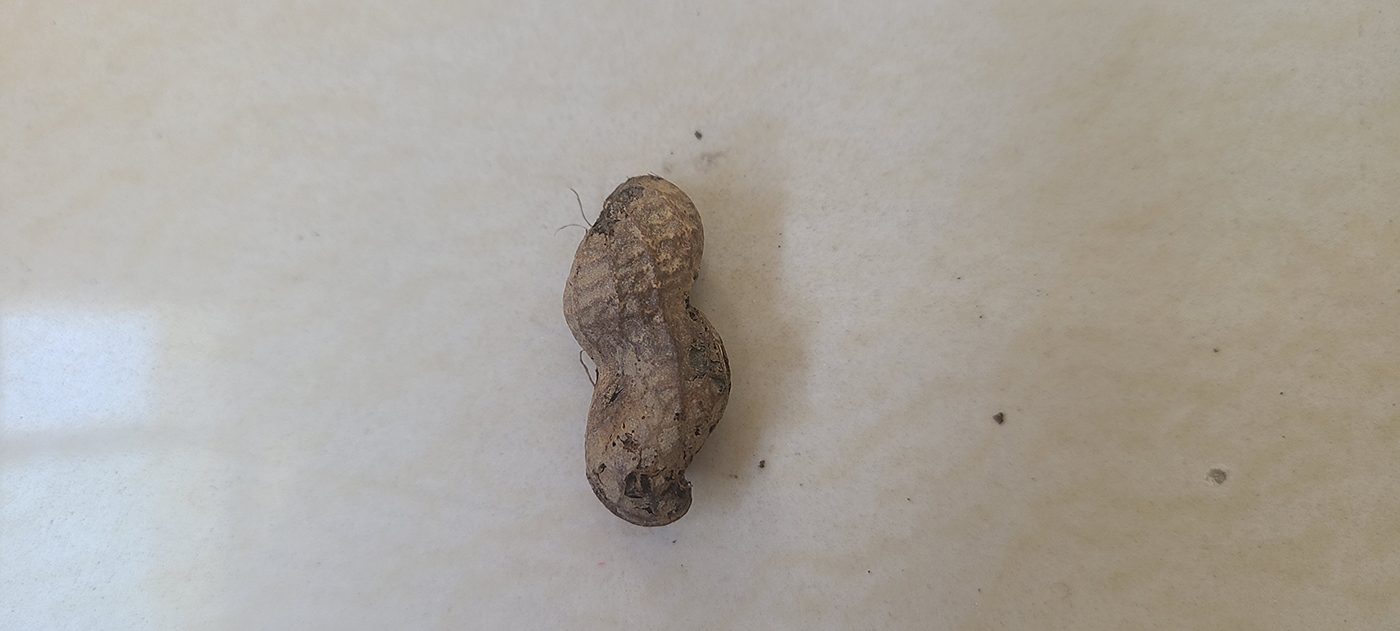l: (561, 173, 733, 529)
